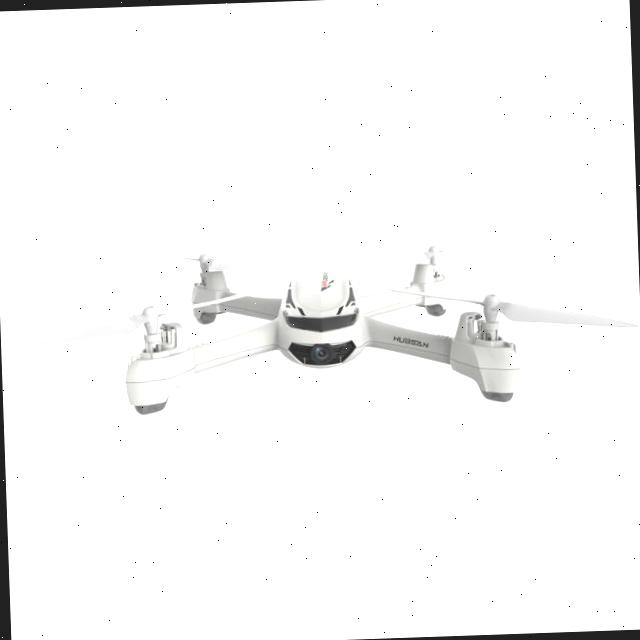drone: (65, 230, 620, 436)
